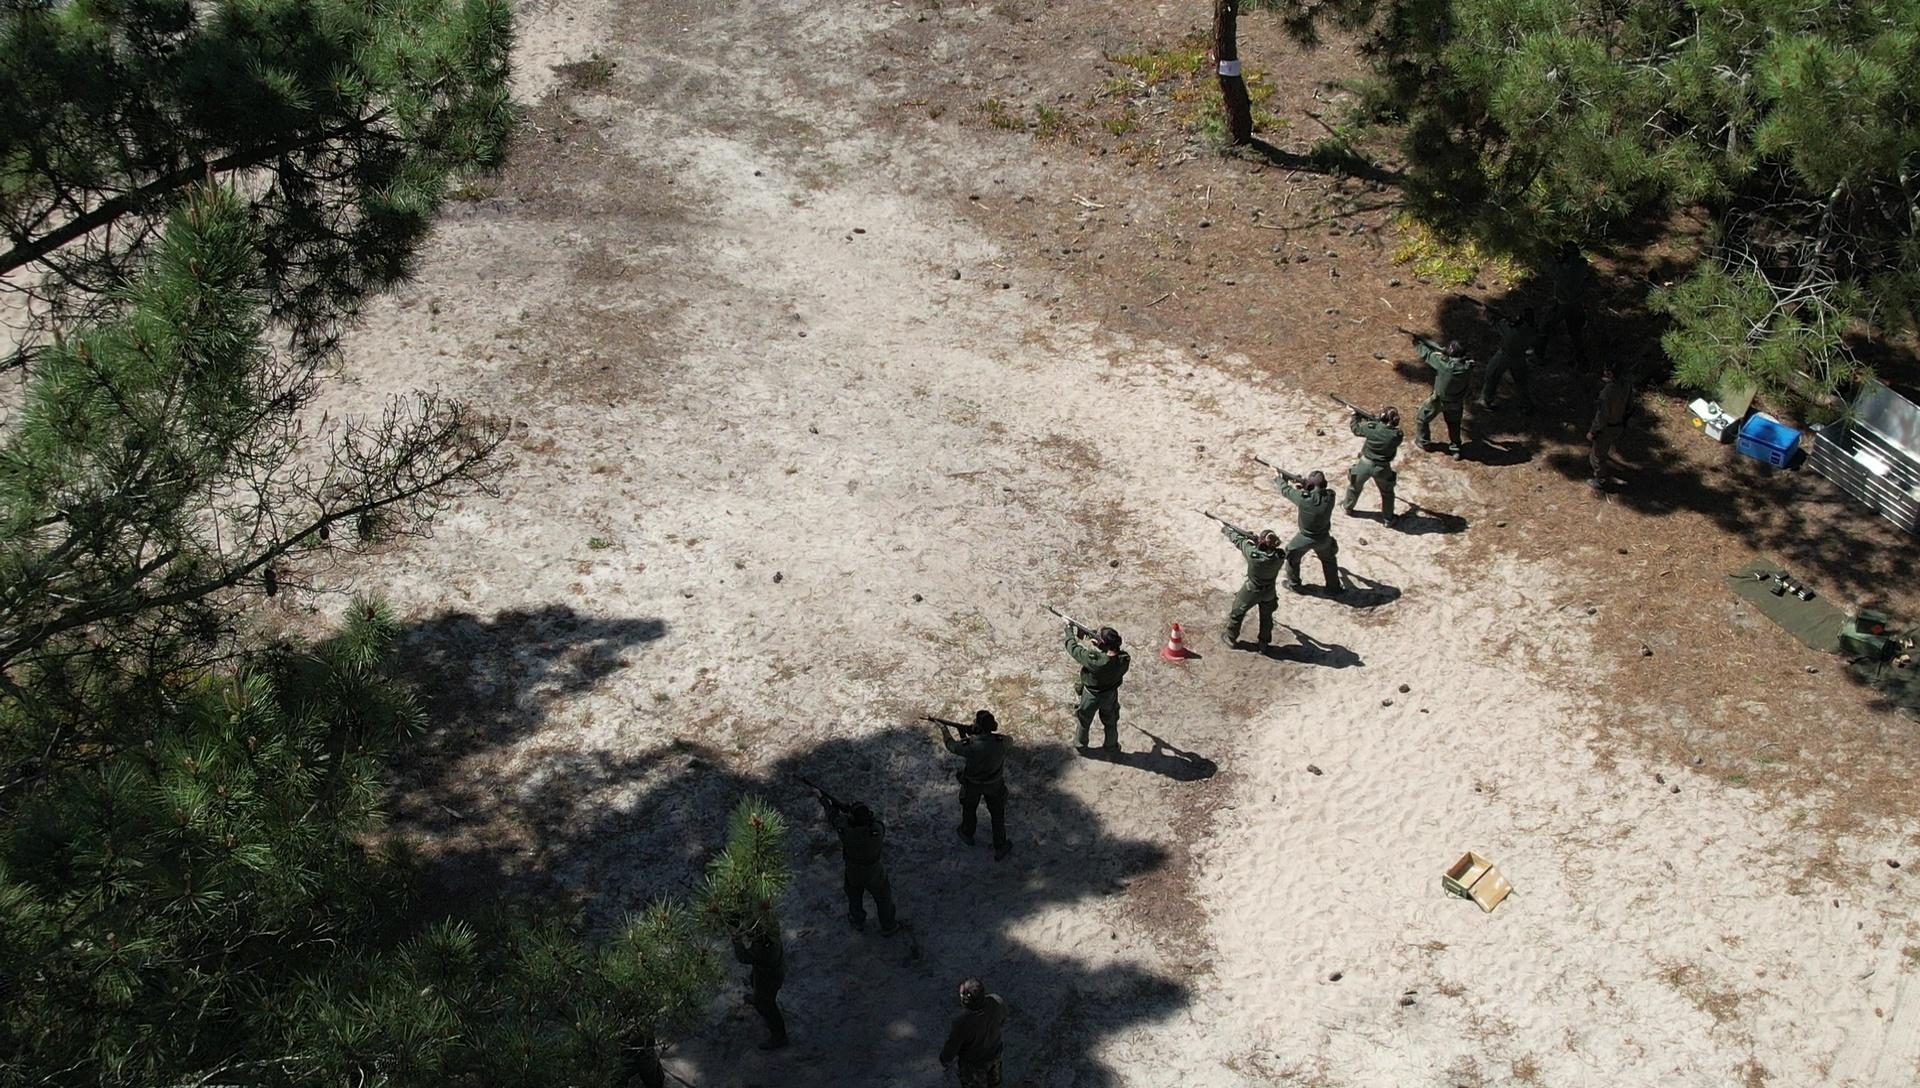Soldier: (812, 786, 915, 959), (717, 895, 806, 1064), (942, 702, 1025, 870), (1054, 611, 1142, 764), (1211, 521, 1290, 663), (926, 976, 1025, 1087), (1472, 295, 1552, 429), (1273, 468, 1352, 601), (1331, 409, 1414, 535), (1578, 353, 1638, 502), (1419, 320, 1480, 462)
